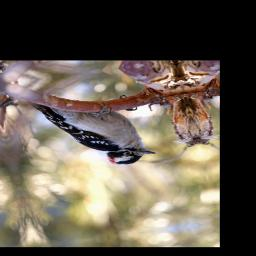Woodpecker: (29, 86, 158, 175)
